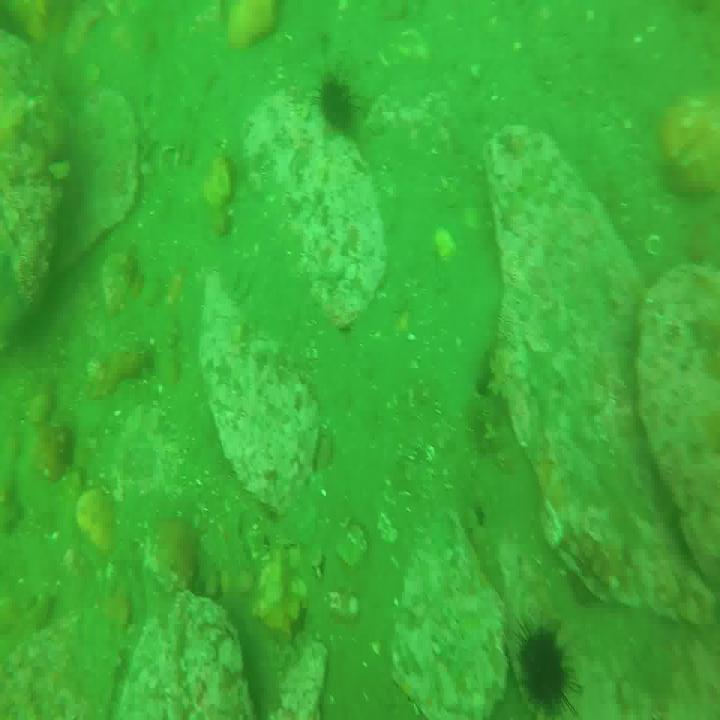echinus: (513, 614, 572, 718), (318, 73, 356, 138)
